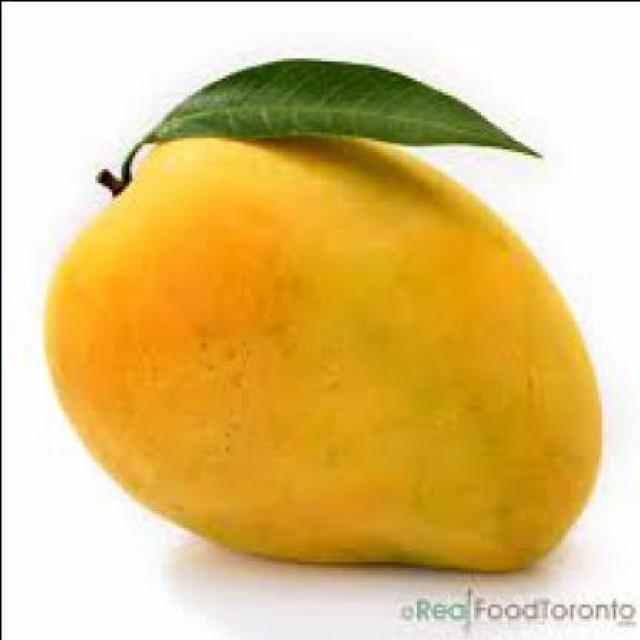BIODEGRADABLE: (43, 137, 605, 575), (98, 60, 540, 197)
